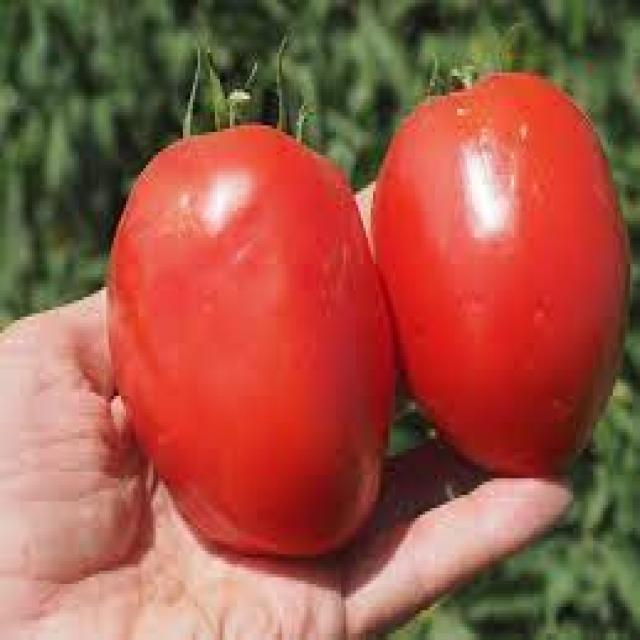Fresh_tomato: (124, 100, 386, 564), (397, 74, 628, 450)
